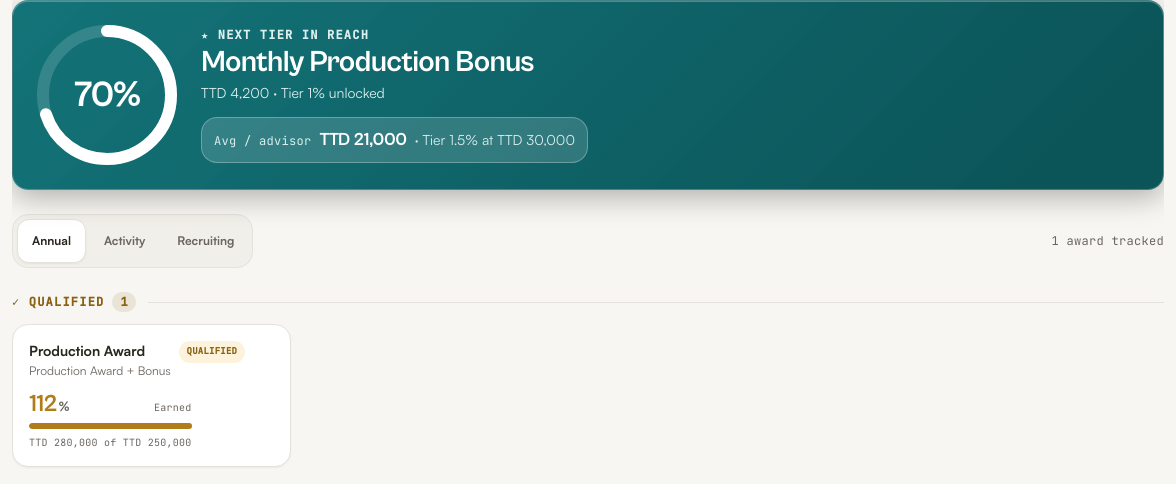
Test: ManagerAwardsPanel — category tabs › renders Annual tab content by default; switching to Activity swaps the grid
The width and height of the screenshot is (1176, 484).
Expected: the text "Production Award" is shown, top-left (29, 342), bottom-right (145, 359)
Expected: the text "Activity Award — Gold" is not shown
Click the tab "Activity": (125,241) top-left (90, 219), bottom-right (159, 263)
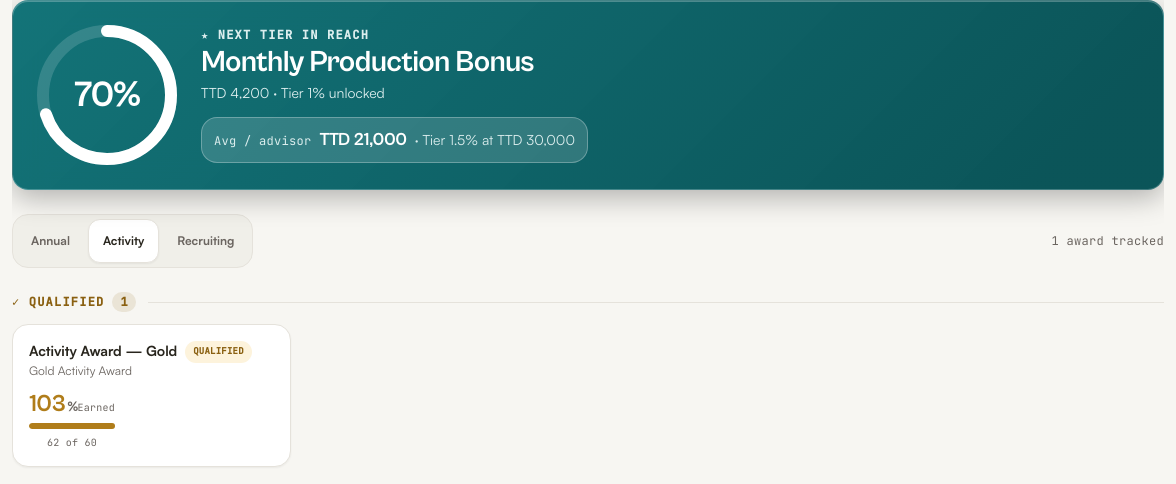
Expected: the text "Activity Award — Gold" is shown, top-left (29, 341), bottom-right (177, 361)
Expected: the button "Production Award" is gone
